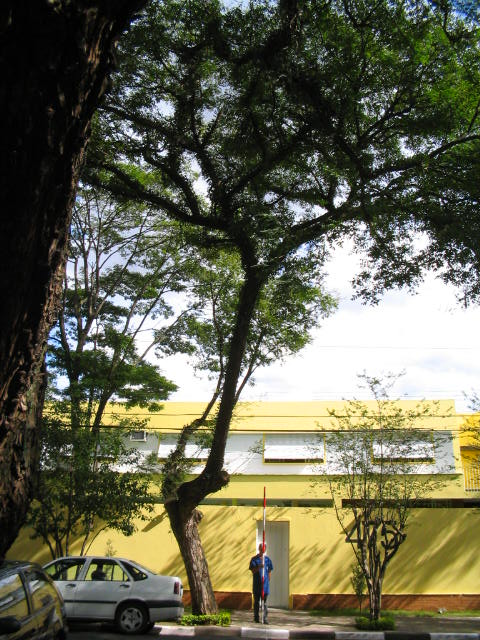crown: (123, 6, 476, 320)
stem: (159, 515, 233, 622)
stick: (254, 487, 272, 622)
tree: (120, 5, 477, 622)
